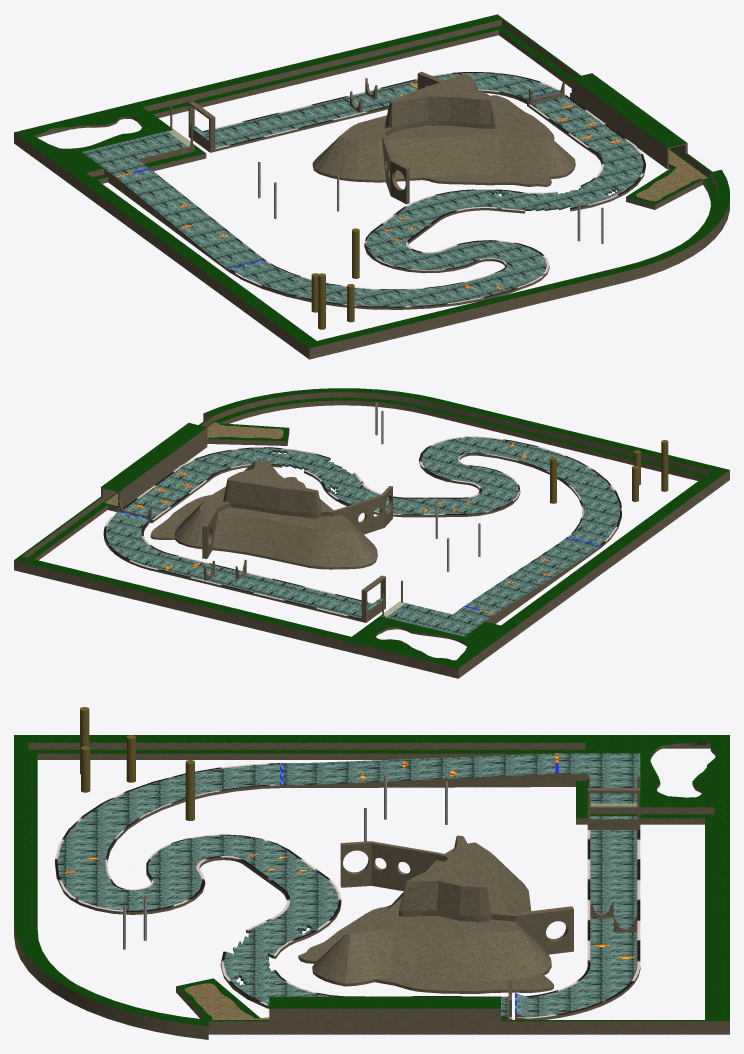
The picture shows the model from 3 angles, top to bottom: view 1: azimuth 30°, elevation 25°; view 2: azimuth 150°, elevation 25°; view 3: azimuth 270°, elevation 25°; orthographic projection. The views are drawn at different scales.
Parts seen in each view (by area): view 1: Jungle_park_2014_Main-Matire5, Jungle_park_2014_Main-Brique_brute_fonce, Jungle_park_2014_Main-Matire10, Jungle_park_2014_Main-Matire13, Jungle_park_2014_Main-Eau_en_mouvement, Jungle_park_2014_Main-Matire3, Jungle_park_2014_Main-Matire12, Jungle_park_2014_Main-Matire8; view 2: Jungle_park_2014_Main-Matire5, Jungle_park_2014_Main-Brique_brute_fonce, Jungle_park_2014_Main-Matire10, Jungle_park_2014_Main-Matire13, Jungle_park_2014_Main-Eau_en_mouvement, Jungle_park_2014_Main-Matire3, Jungle_park_2014_Main-Matire12, Jungle_park_2014_Main-Matire8; view 3: Jungle_park_2014_Main-Matire5, Jungle_park_2014_Main-Brique_brute_fonce, Jungle_park_2014_Main-Matire10, Jungle_park_2014_Main-Matire13, Jungle_park_2014_Main-Eau_en_mouvement, Jungle_park_2014_Main-Matire3, Jungle_park_2014_Main-Matire12, Jungle_park_2014_Main-Matire8.
Part boxes in pixels (x1,y1,x2,y2): Jungle_park_2014_Main-Matire5: [82, 73, 643, 306]; Jungle_park_2014_Main-Brique_brute_fonce: [14, 19, 729, 359]; Jungle_park_2014_Main-Matire10: [14, 14, 729, 348]; Jungle_park_2014_Main-Matire13: [312, 73, 575, 184]; Jungle_park_2014_Main-Eau_en_mouvement: [203, 72, 645, 307]; Jungle_park_2014_Main-Matire3: [311, 228, 359, 329]; Jungle_park_2014_Main-Matire12: [636, 149, 707, 201]; Jungle_park_2014_Main-Matire8: [258, 162, 603, 243]; Jungle_park_2014_Main-Matire5: [106, 437, 619, 636]; Jungle_park_2014_Main-Brique_brute_fonce: [14, 392, 729, 678]; Jungle_park_2014_Main-Matire10: [14, 388, 729, 668]; Jungle_park_2014_Main-Matire13: [150, 459, 377, 567]; Jungle_park_2014_Main-Eau_en_mouvement: [103, 436, 621, 619]; Jungle_park_2014_Main-Matire3: [550, 440, 668, 503]; Jungle_park_2014_Main-Matire12: [104, 422, 283, 505]; Jungle_park_2014_Main-Matire8: [375, 402, 480, 571]; Jungle_park_2014_Main-Matire5: [57, 753, 640, 1017]; Jungle_park_2014_Main-Brique_brute_fonce: [14, 741, 729, 1039]; Jungle_park_2014_Main-Matire10: [14, 735, 729, 1026]; Jungle_park_2014_Main-Matire13: [298, 835, 553, 991]; Jungle_park_2014_Main-Eau_en_mouvement: [55, 763, 640, 1018]; Jungle_park_2014_Main-Matire3: [80, 707, 194, 820]; Jungle_park_2014_Main-Matire12: [184, 983, 269, 1019]; Jungle_park_2014_Main-Matire8: [123, 776, 447, 949].
Size of the model in its own units: 54697 by 6281 by 56798.
Materials: 14 (14 with a texture image).
